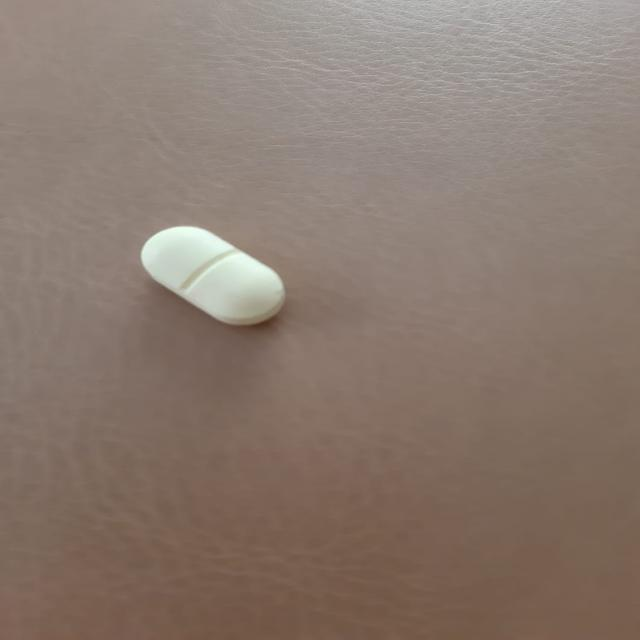pills: (123, 210, 301, 336)
